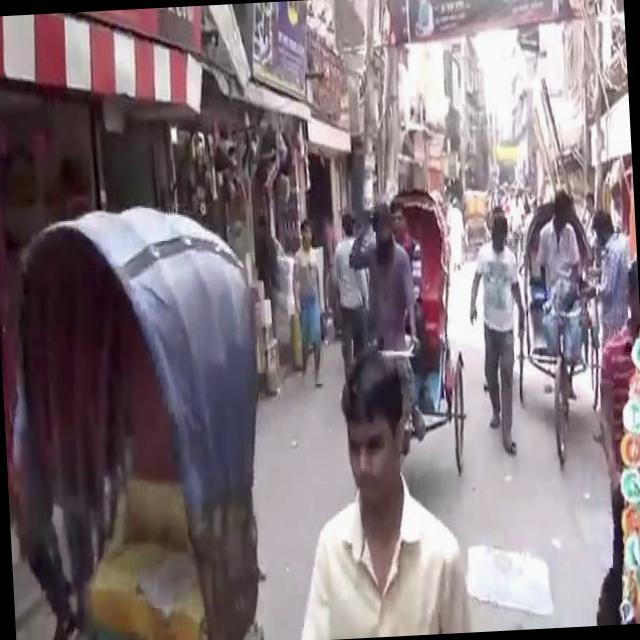motorcycle: (7, 194, 270, 640), (359, 176, 469, 479), (507, 188, 608, 471), (459, 183, 490, 260)
